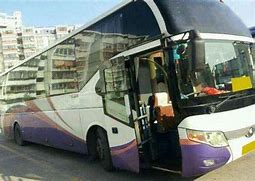bigcar: (0, 0, 253, 173)
